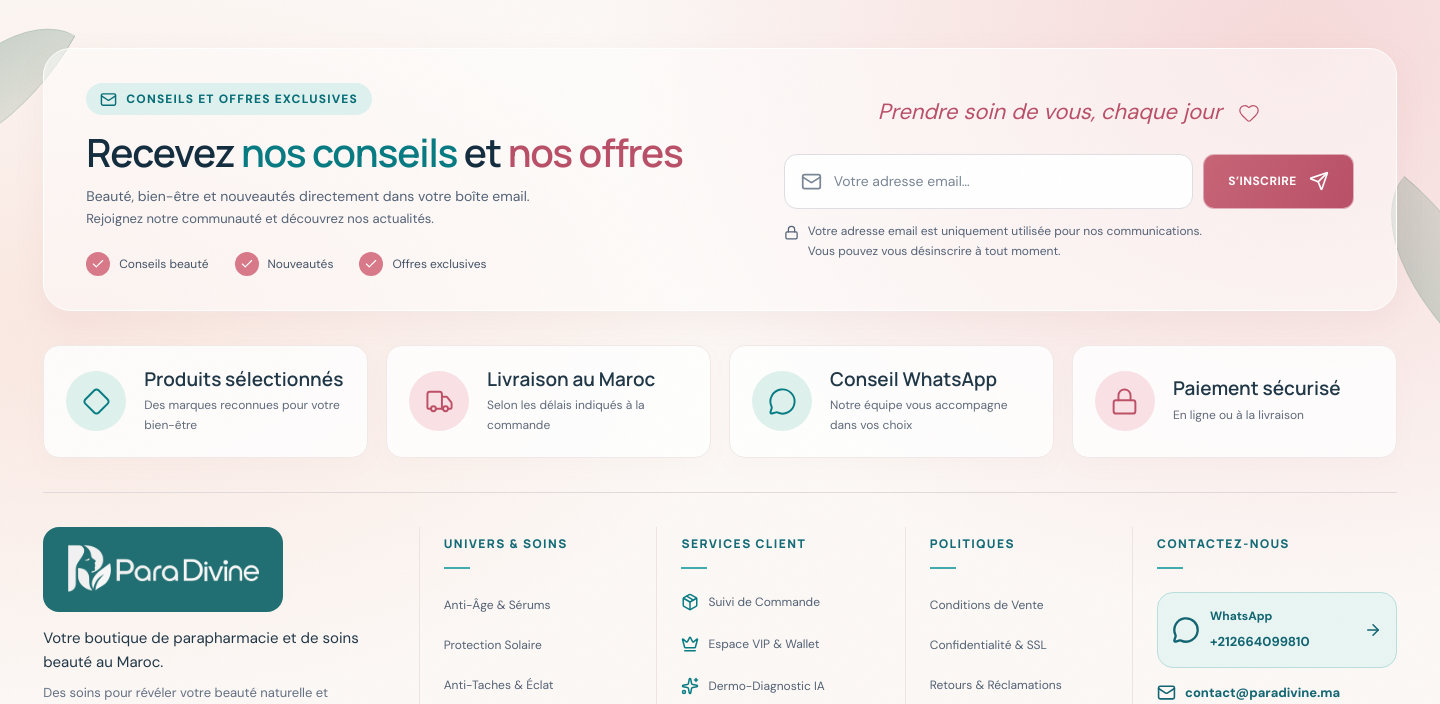
Test case: does not falsely confirm a newsletter subscription without a backend
Type "test@example.com" into the field named "Adresse e-mail pour la newsletter". click: point(1005, 181)
box: [834,155,1176,208]
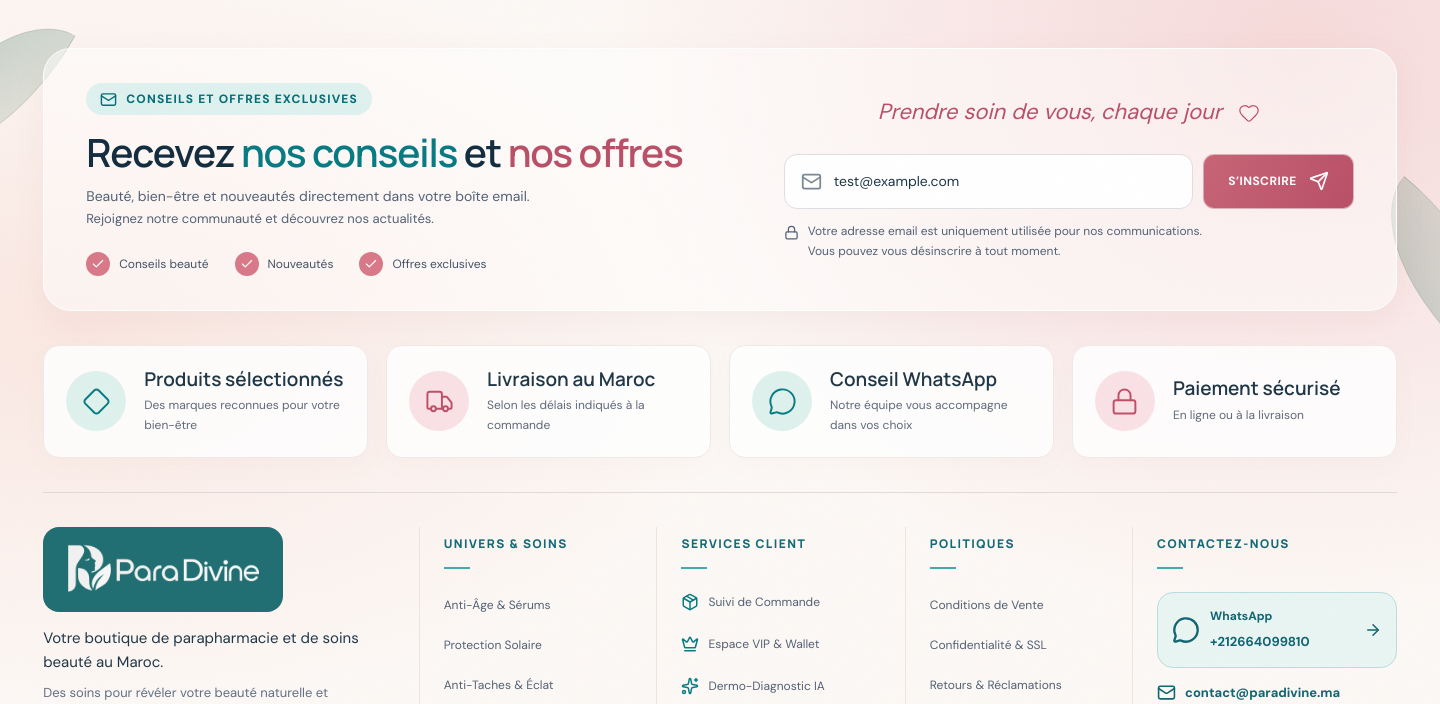
Submit the form "S’inscrire", box [784,97,1354,262]
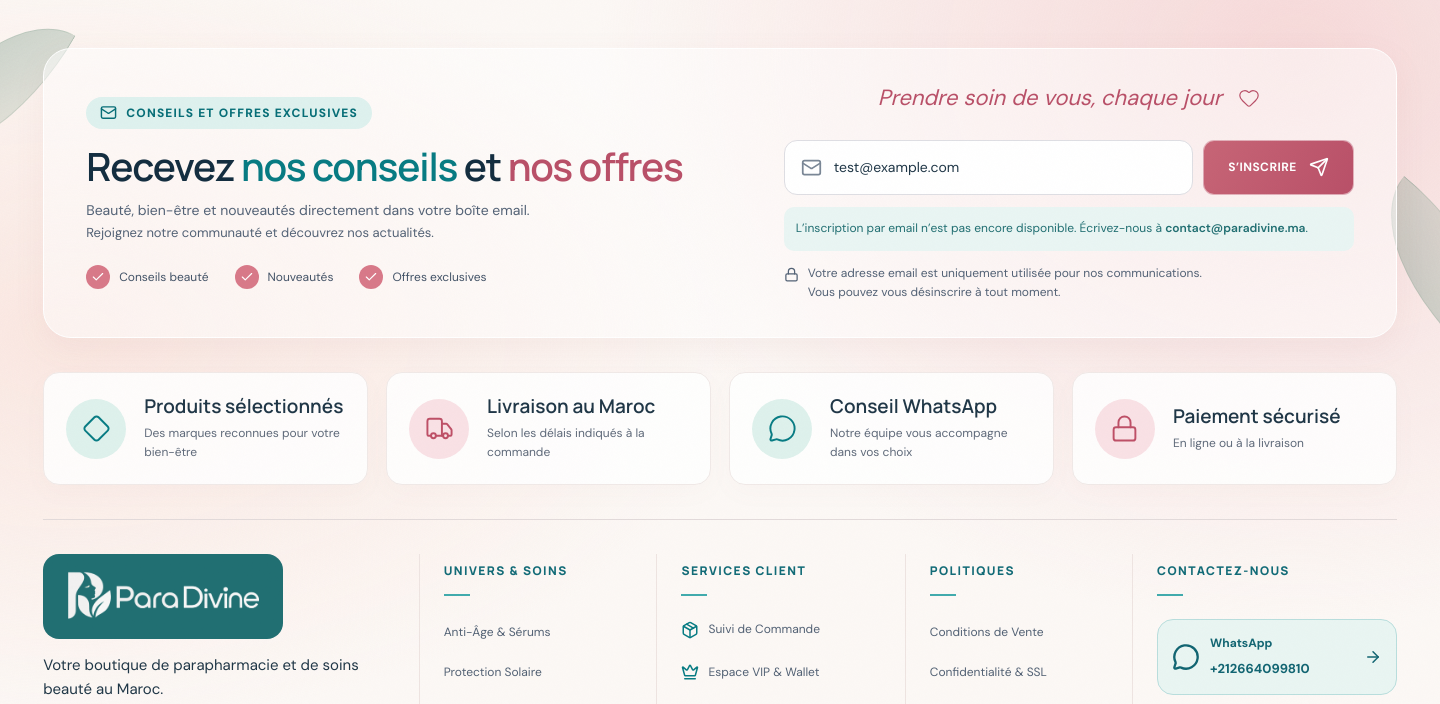
Expected: the message shows "pas encore disponible", [796,220,1162,236]
